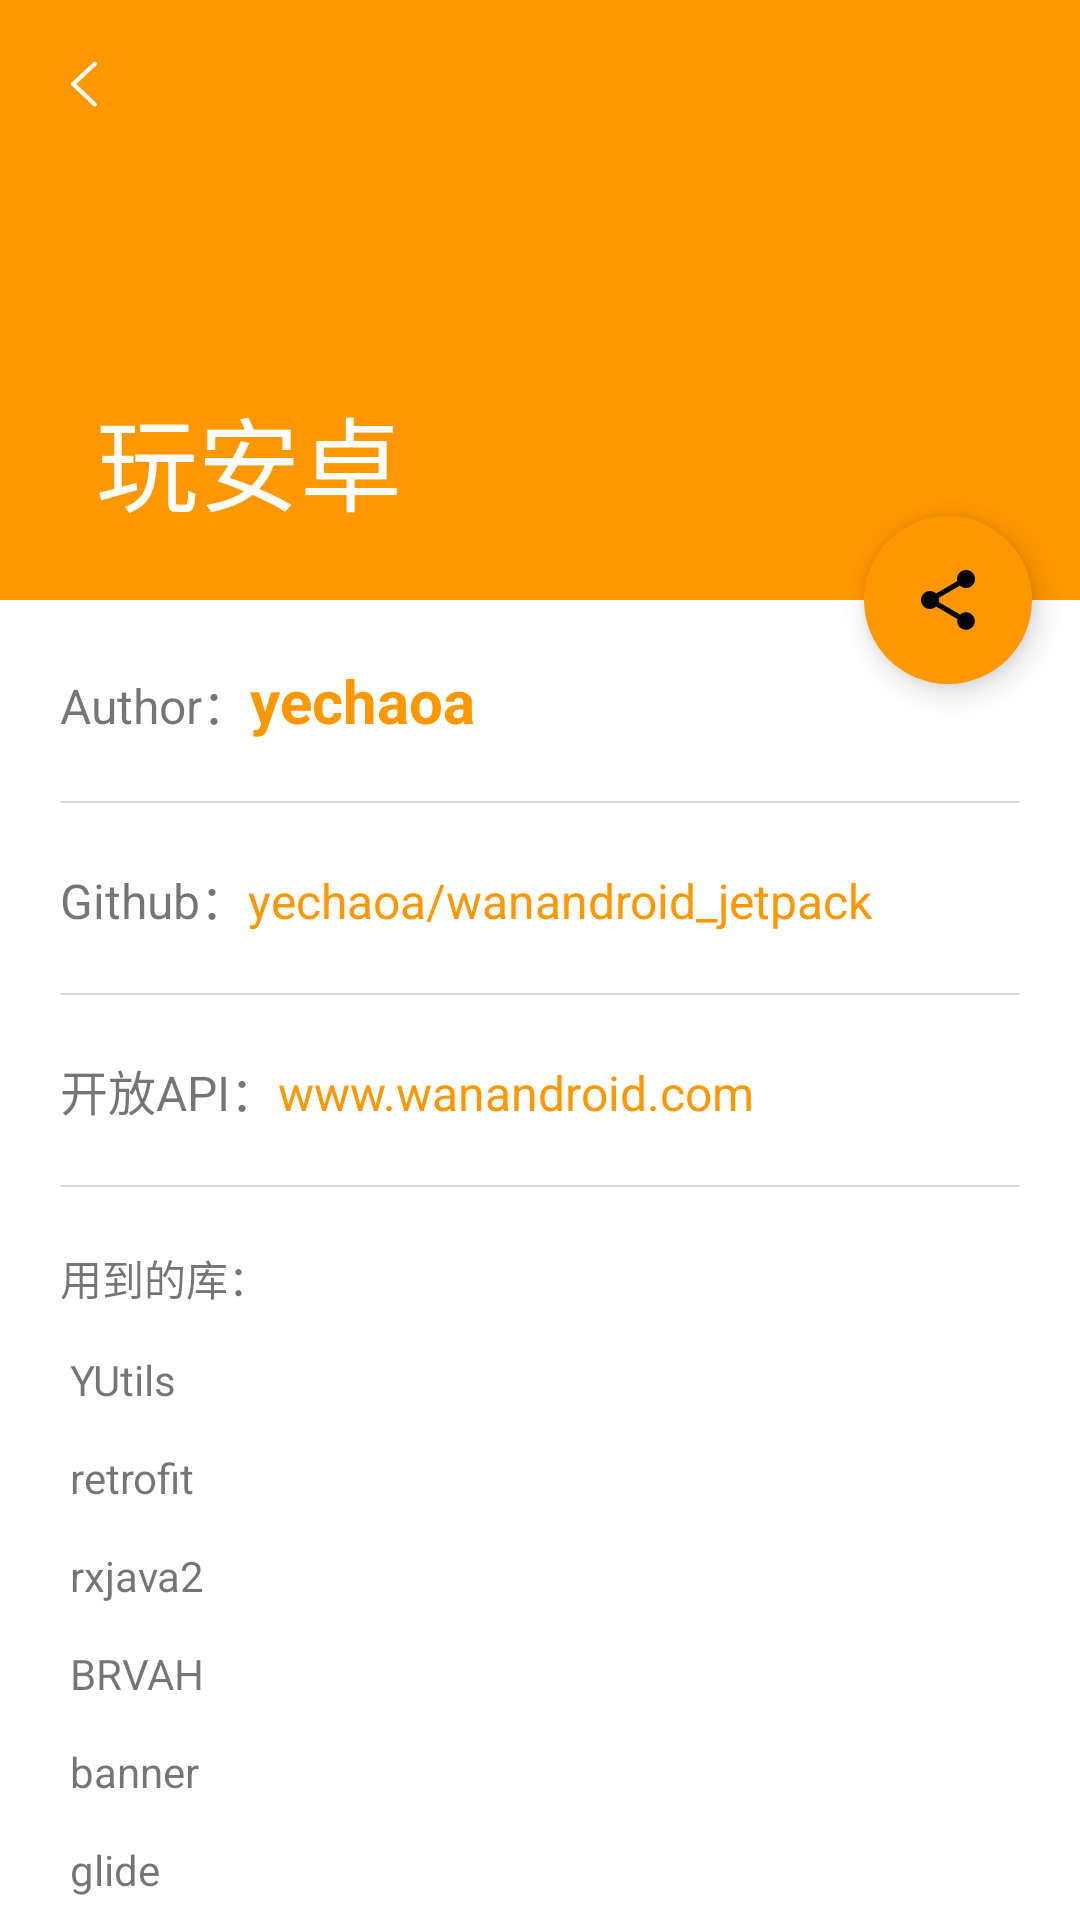

Named icons in this screenshot (1080 x 1920) and their centers, point (x, y):
share: point (948, 600)
